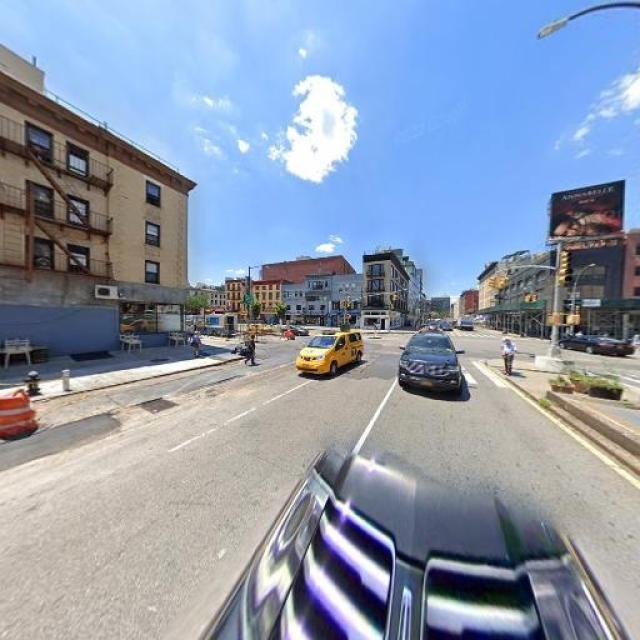Building: (1, 79, 187, 367), (500, 243, 619, 343), (364, 250, 408, 332), (225, 279, 281, 328), (333, 276, 362, 329), (305, 275, 330, 329), (628, 234, 640, 342), (283, 286, 303, 328)
